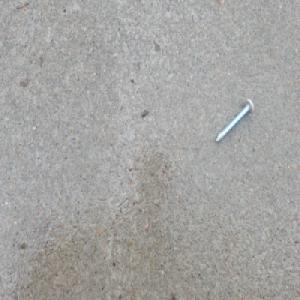Nail: (215, 99, 256, 147)
